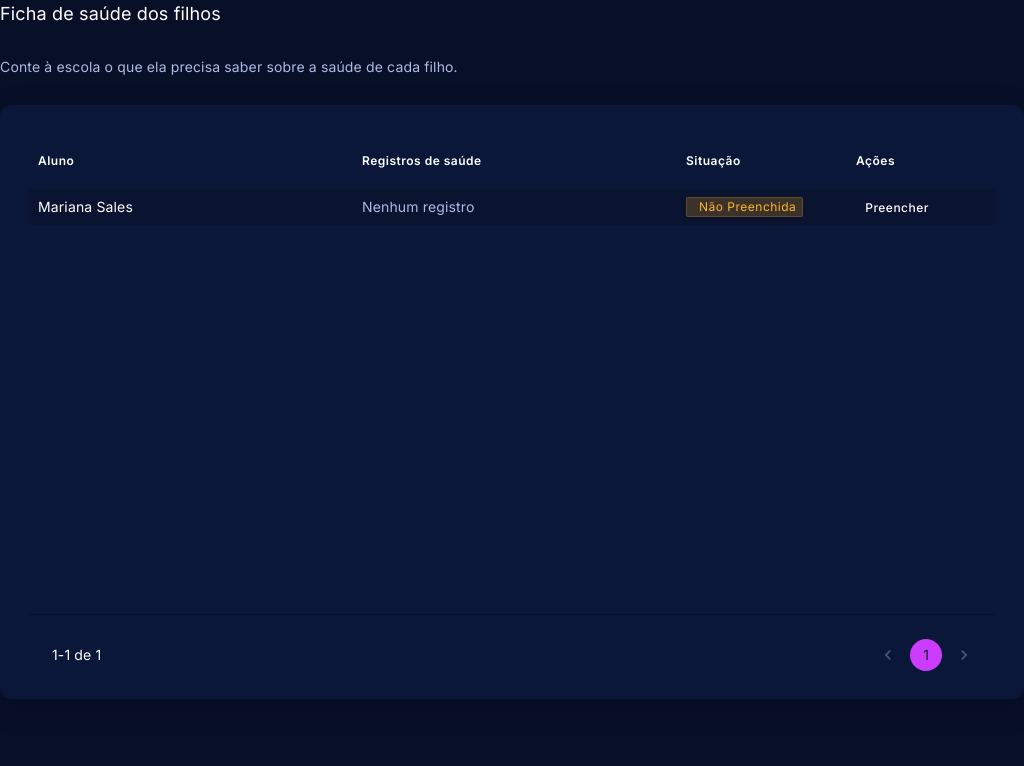
Test case: MyHealthRecords › updates the filled chip after saving the profile
Check: the text "Não preenchida" is shown, box [699,198,796,216]
Check: the text "Nenhum registro" is shown, box [362,197,475,217]
Click the button "Preencher": (897, 207) [856,190,938,225]
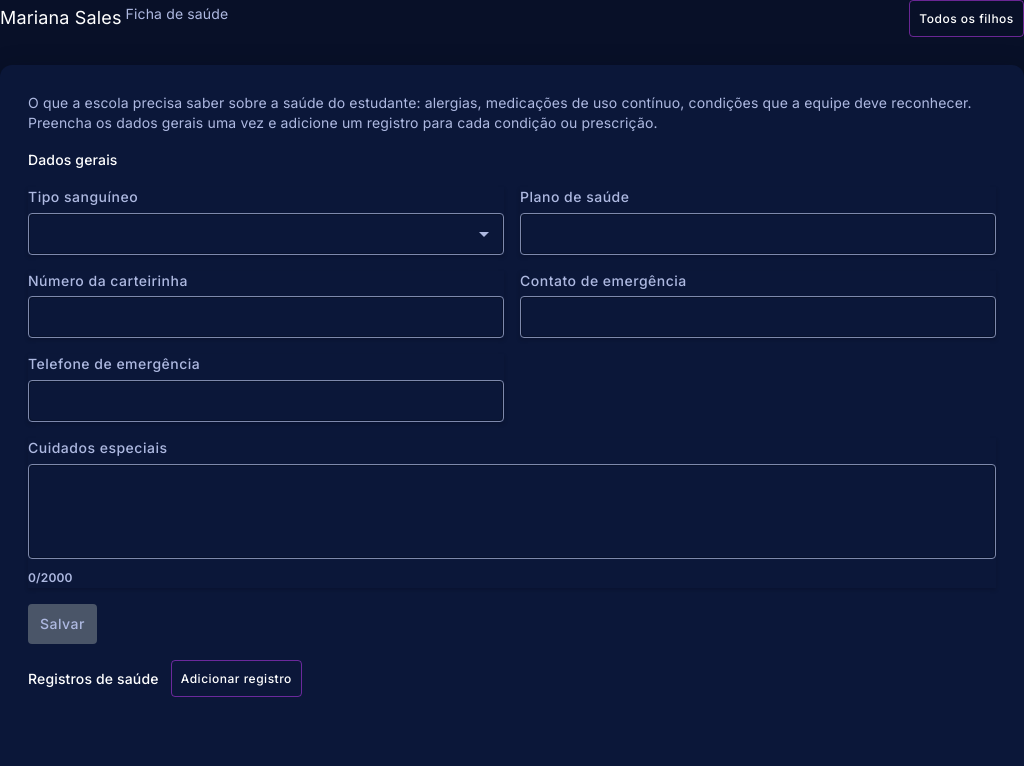
Click the dropdown named "Tipo sanguíneo": (266, 234) [39,224,493,244]
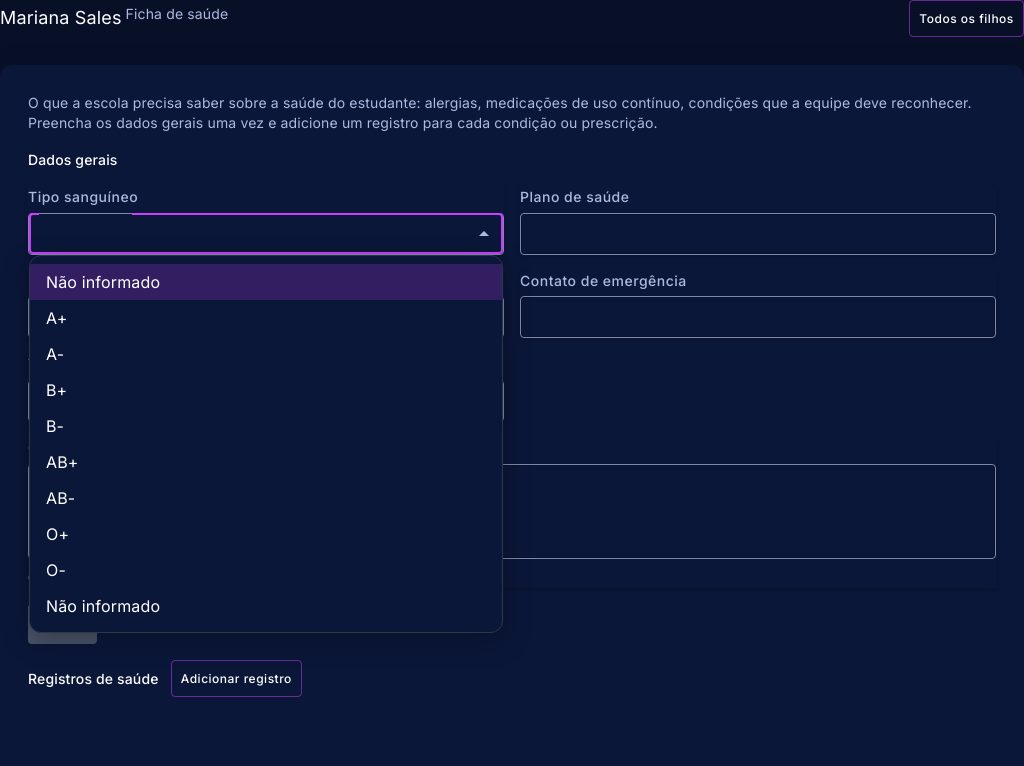
Click the option "O+": (58, 534) [46,524,69,544]
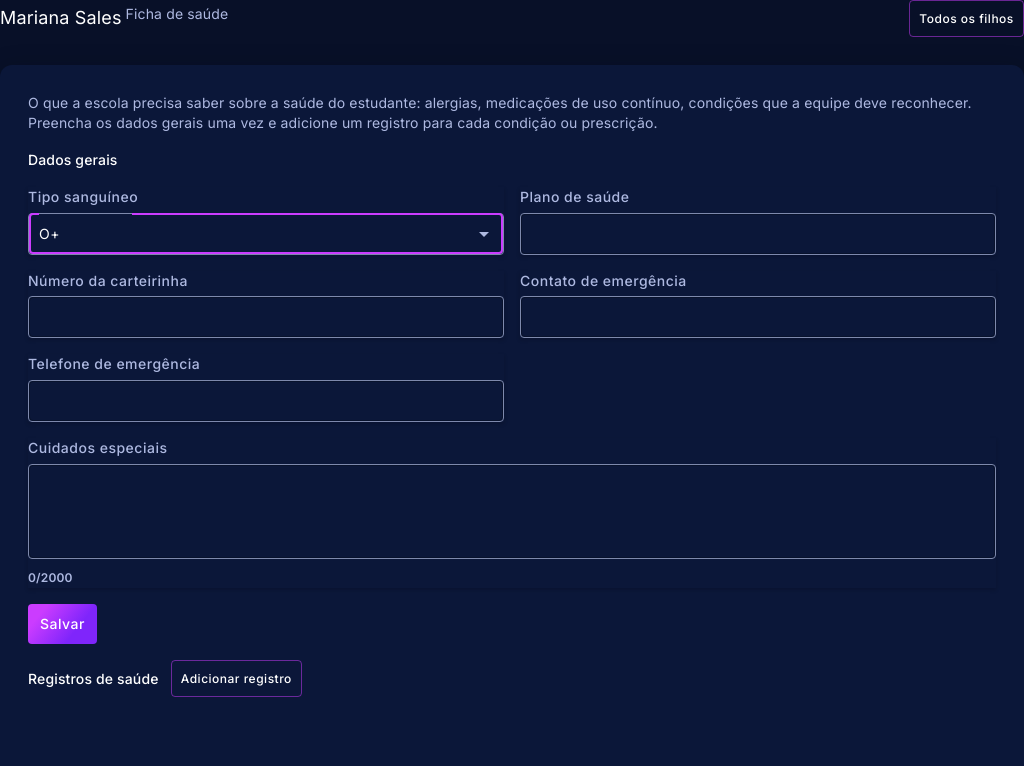
Click the button "Salvar": (62, 624) [28,604,97,644]
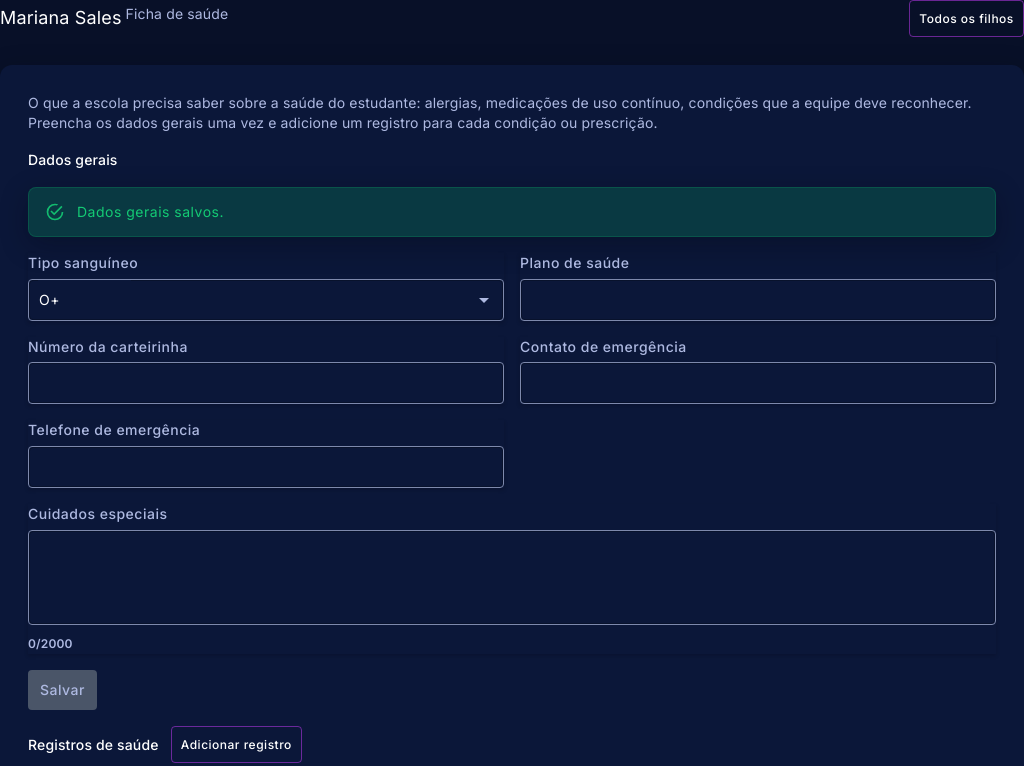
Check: the text "Dados gerais salvos." is shown, box [77,203,224,220]
Click the button "Todos os filhos": (967, 18) [909,0,1023,37]
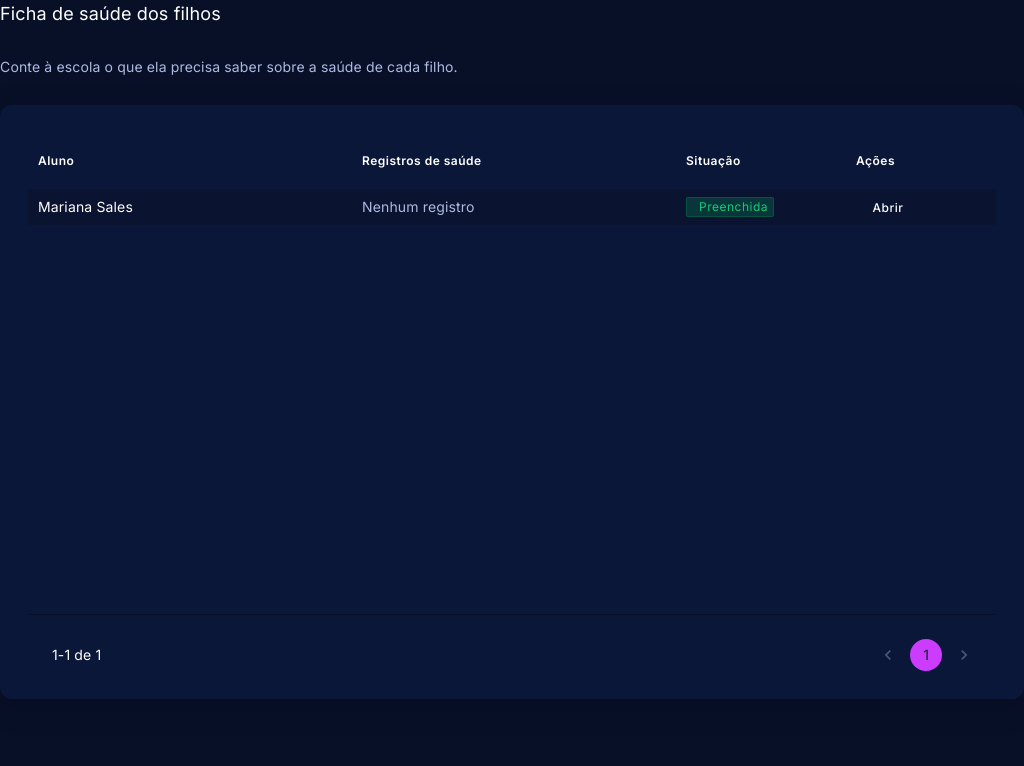
Check: the text "Não preenchida" is not shown
Check: the text "Preenchida" is shown, box [699,198,768,216]
Check: the button "Abrir" is shown, box [856,190,920,225]
